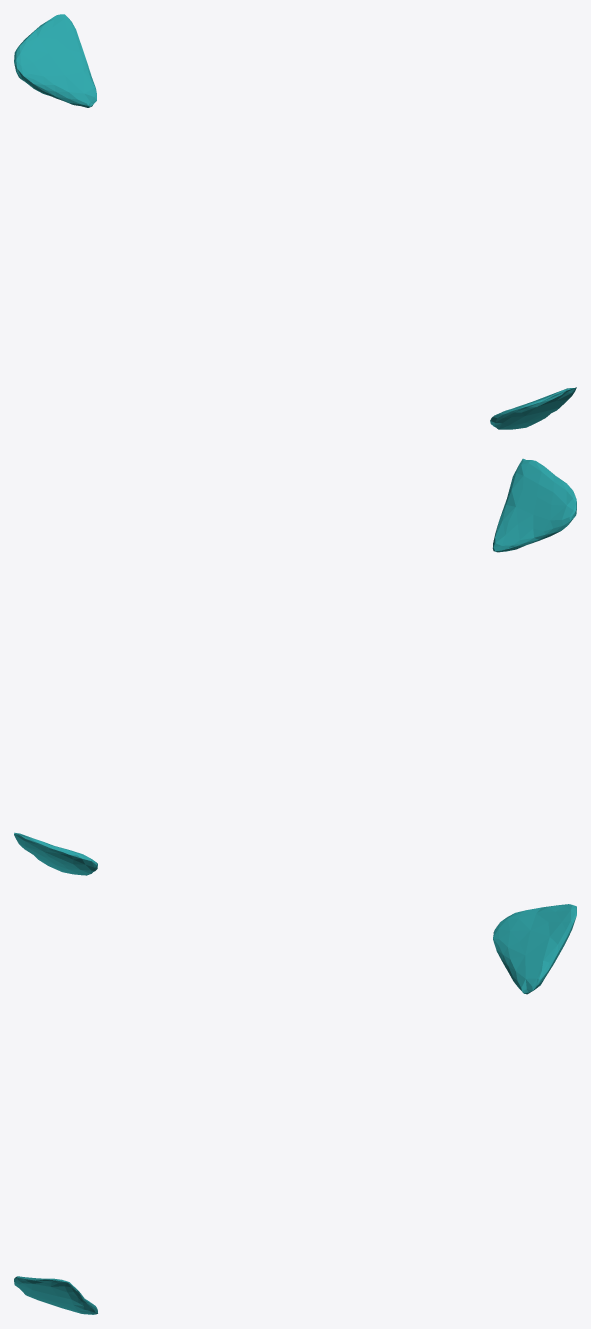
3 views of the same model, one above another, from view 1: azimuth 30°, elevation 25°; view 2: azimuth 150°, elevation 25°; view 3: azimuth 330°, elevation 25° (orthographic).
Parts seen in each view (by area): view 1: 1114.obj; view 2: 1114.obj; view 3: 1114.obj.
Part boxes in pixels (<box>): 1114.obj: <box>14,14,576,429</box>; 1114.obj: <box>14,458,576,875</box>; 1114.obj: <box>14,904,576,1314</box>.
Bounding box in the file's own units: 638 × 545 × 7975.
